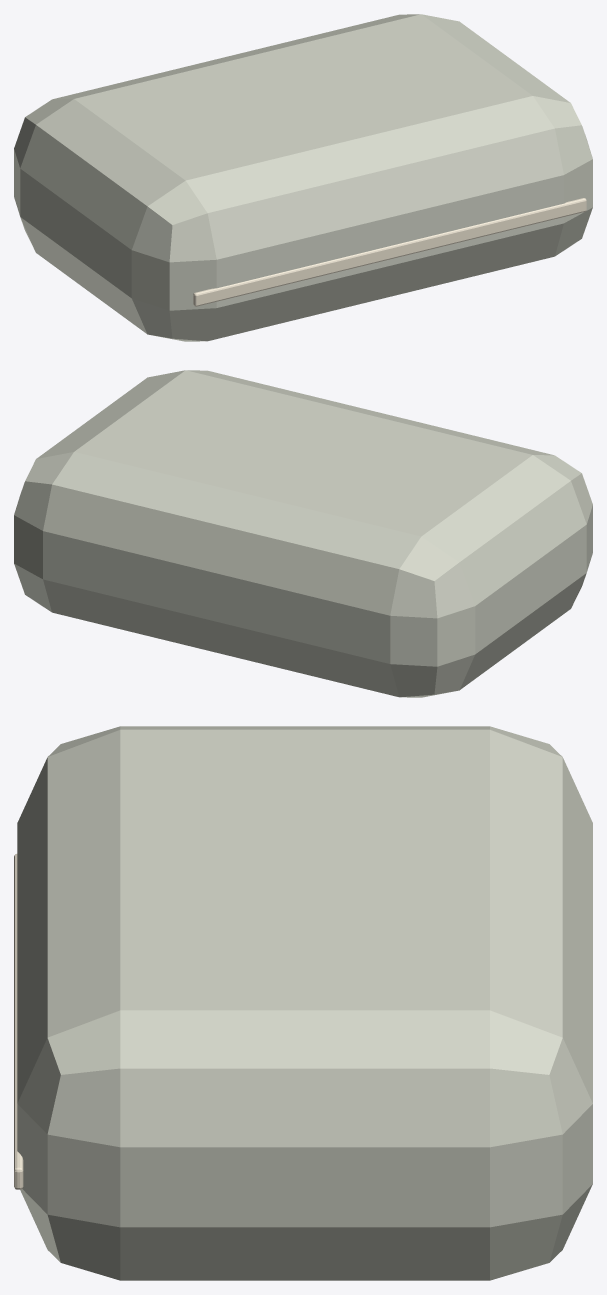
File: pillow.glb
3 views of the same model, one above another, from view 1: azimuth 30°, elevation 25°; view 2: azimuth 150°, elevation 25°; view 3: azimuth 270°, elevation 25° (orthographic). The views are drawn at different scales.
Visible parts, largest first — view 1: pillow_Mesh; view 2: pillow_Mesh; view 3: pillow_Mesh.
Part boxes in pixels (bbox=[...]): pillow_Mesh: bbox=[14, 14, 592, 341]; pillow_Mesh: bbox=[14, 370, 592, 697]; pillow_Mesh: bbox=[14, 726, 592, 1280].
Bounding box in the file's own units: 0.65 × 0.22 × 0.4325.
